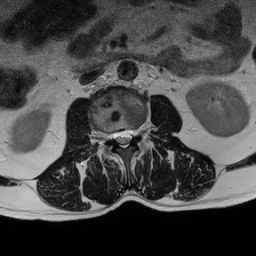CCS_normal: (119, 121, 126, 154)
LFS_normal: (133, 121, 140, 143)
LLS_normal: (126, 121, 133, 148)
RFS_normal: (105, 124, 112, 148)
RLS_normal: (112, 123, 119, 146)
